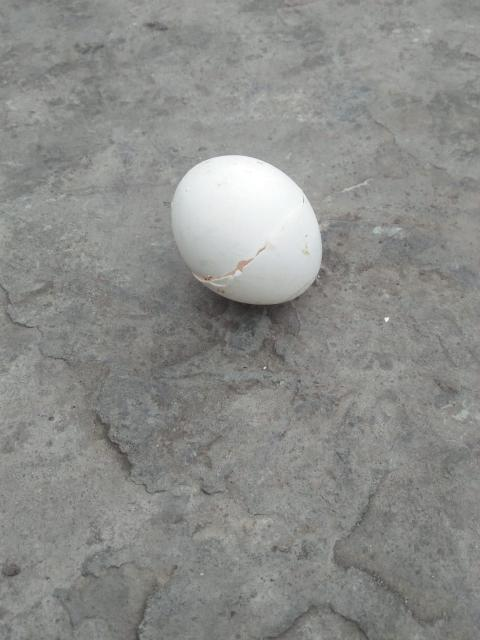Roto: (170, 153, 323, 306)
